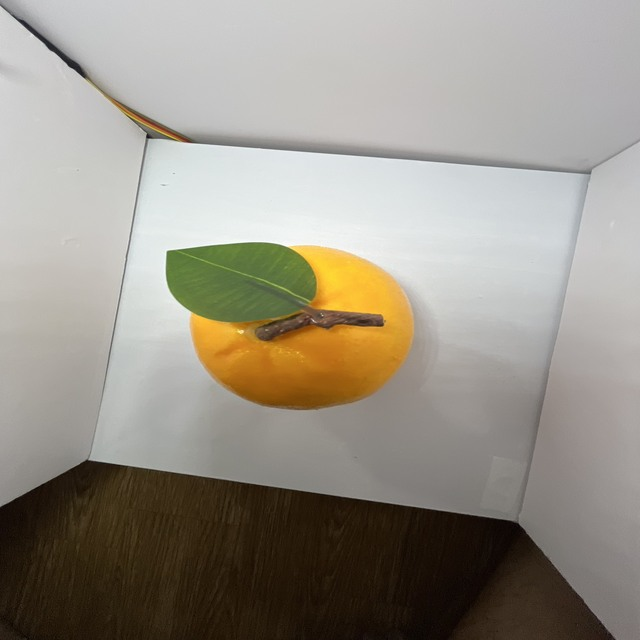Cam vang: (187, 237, 419, 417)
